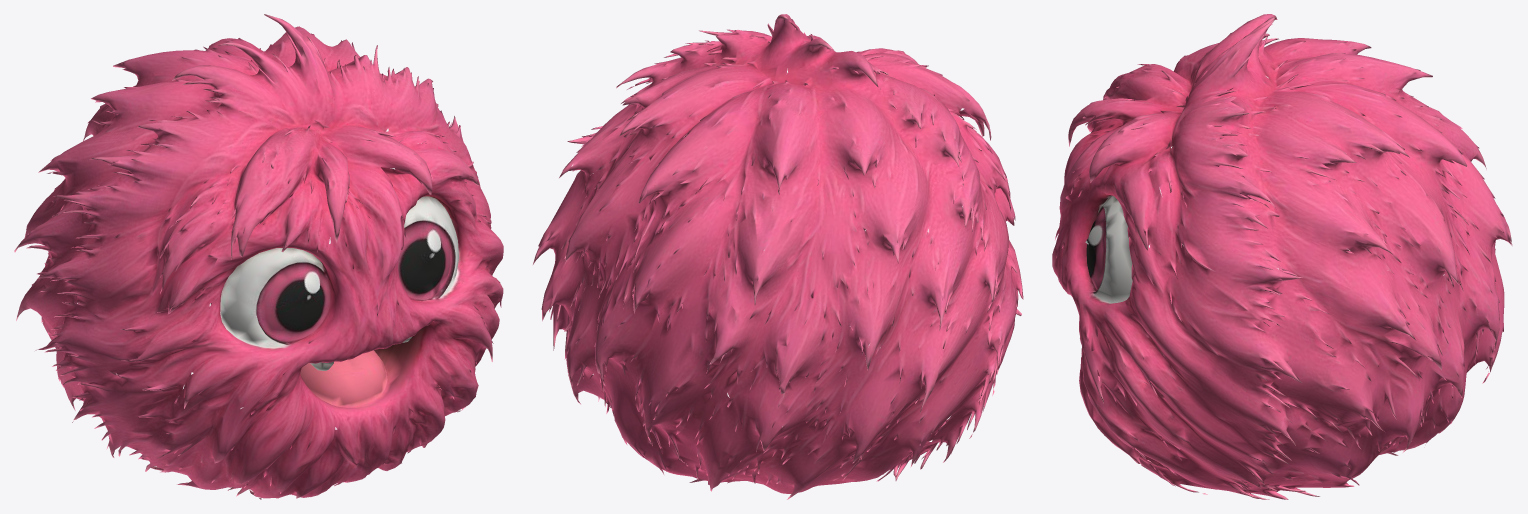
File: fuzzy.glb
The picture shows the model from 3 angles, left to right: view 1: azimuth 30°, elevation 25°; view 2: azimuth 150°, elevation 25°; view 3: azimuth 270°, elevation 25°; orthographic projection.
Visible parts, largest first — view 1: geometry_0; view 2: geometry_0; view 3: geometry_0.
Boxes of the visible parts, bbox=[...] form: geometry_0: bbox=[14, 14, 503, 499]; geometry_0: bbox=[533, 14, 1023, 499]; geometry_0: bbox=[1052, 14, 1512, 499].
Bounding box in the file's own units: 1.01 × 0.9992 × 0.9299.
Materials: 1 (1 with a texture image).
